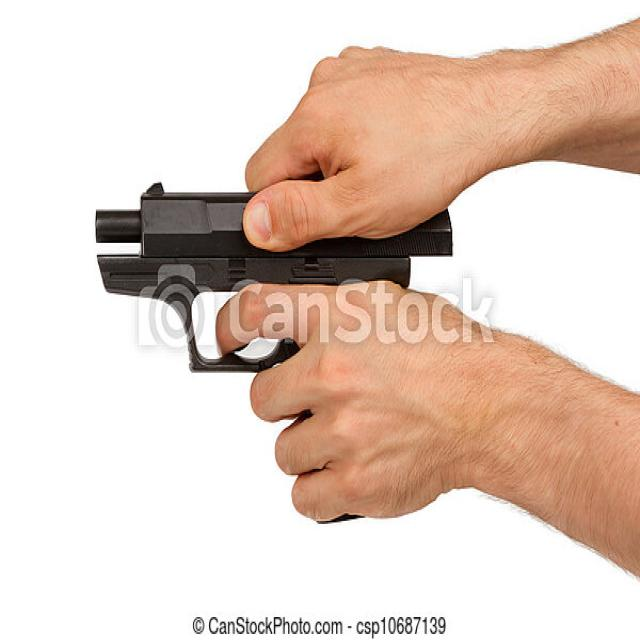HandGun: (97, 183, 455, 374)
